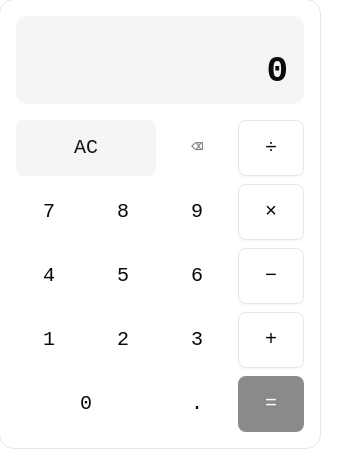
Test case: Calculator › builds up a number from digit presses
Click the button "1" at (49, 340), box [16,312,82,368]
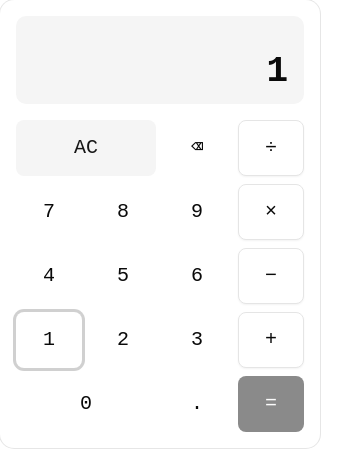
Click the button "2" at (123, 340), box [90,312,156,368]
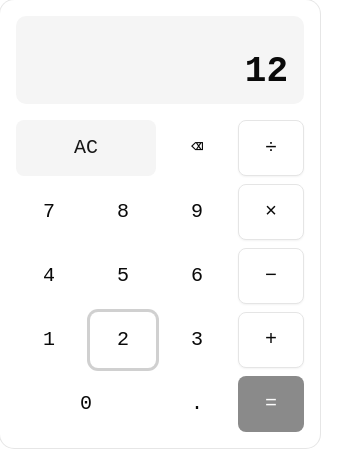
Click the button "3" at (197, 340), box [164,312,230,368]
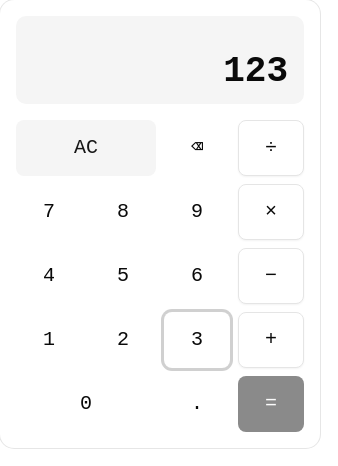
Check: the text with test id "calculator-display" reads "123", box [223,51,288,92]
